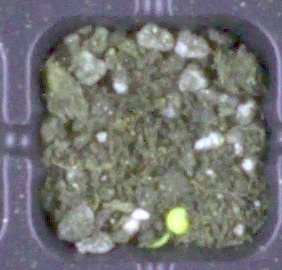chilli seed: (166, 207, 188, 234), (150, 232, 170, 247)
